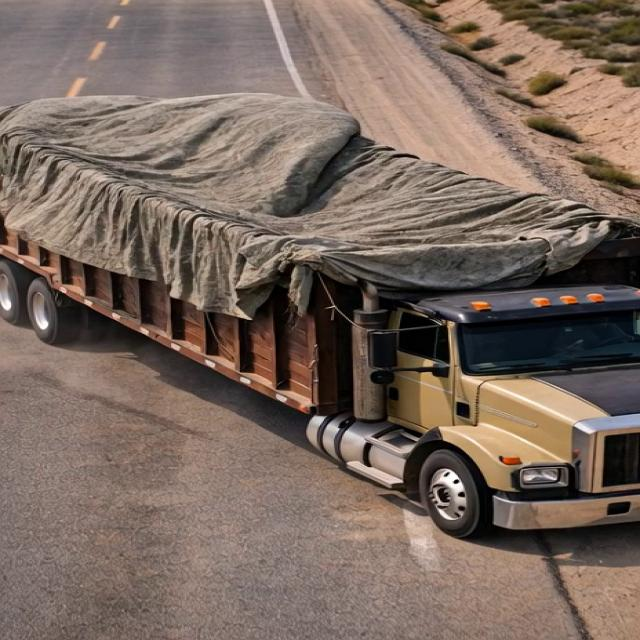trailer: (0, 95, 627, 299)
truck: (1, 58, 631, 546)
